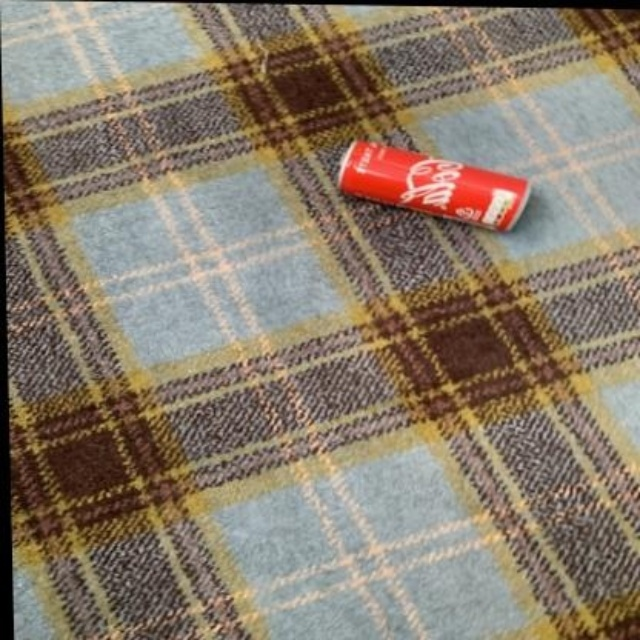trash: (338, 142, 529, 229)
